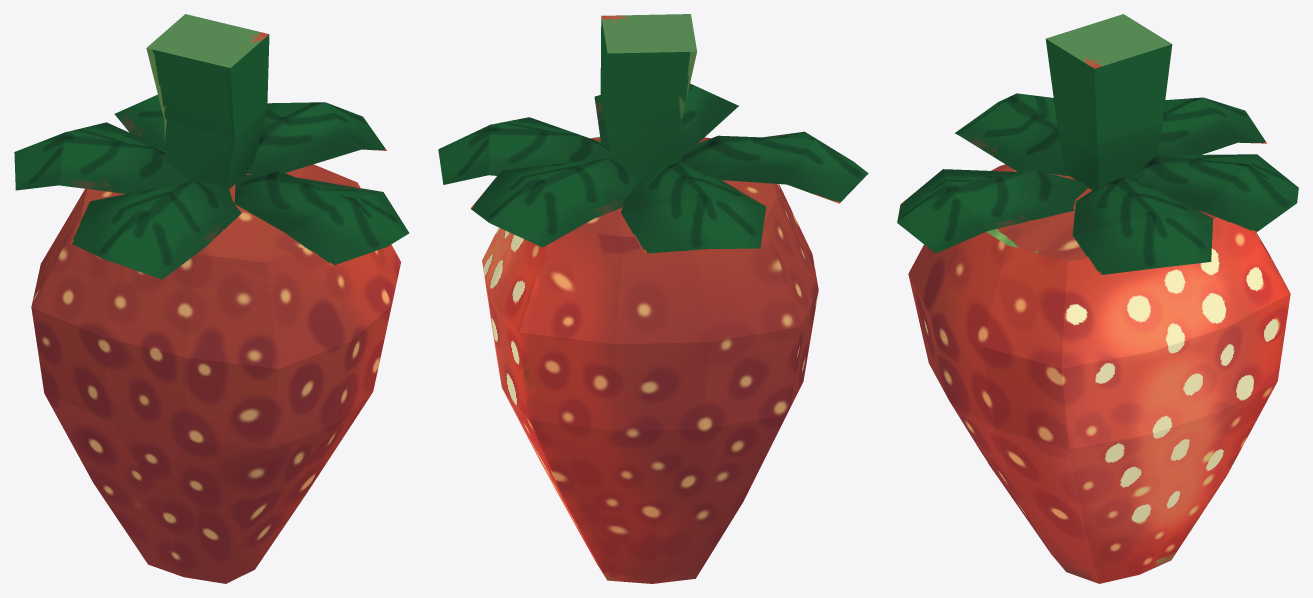
Rendered from strawberry.gltf.
3 views of the same model, side by side, from view 1: azimuth 30°, elevation 25°; view 2: azimuth 150°, elevation 25°; view 3: azimuth 270°, elevation 25° (orthographic). The views are drawn at different scales.
Visible parts, largest first — view 1: StrawberryMesh; view 2: StrawberryMesh; view 3: StrawberryMesh.
Boxes of the visible parts, left/top/right/bottom form: StrawberryMesh: left=14, top=14, right=409, bottom=583; StrawberryMesh: left=438, top=14, right=868, bottom=583; StrawberryMesh: left=897, top=14, right=1298, bottom=583.
Bounding box in the file's own units: 0.9651 × 1.44 × 0.9801.
1 material, 1 textured.
